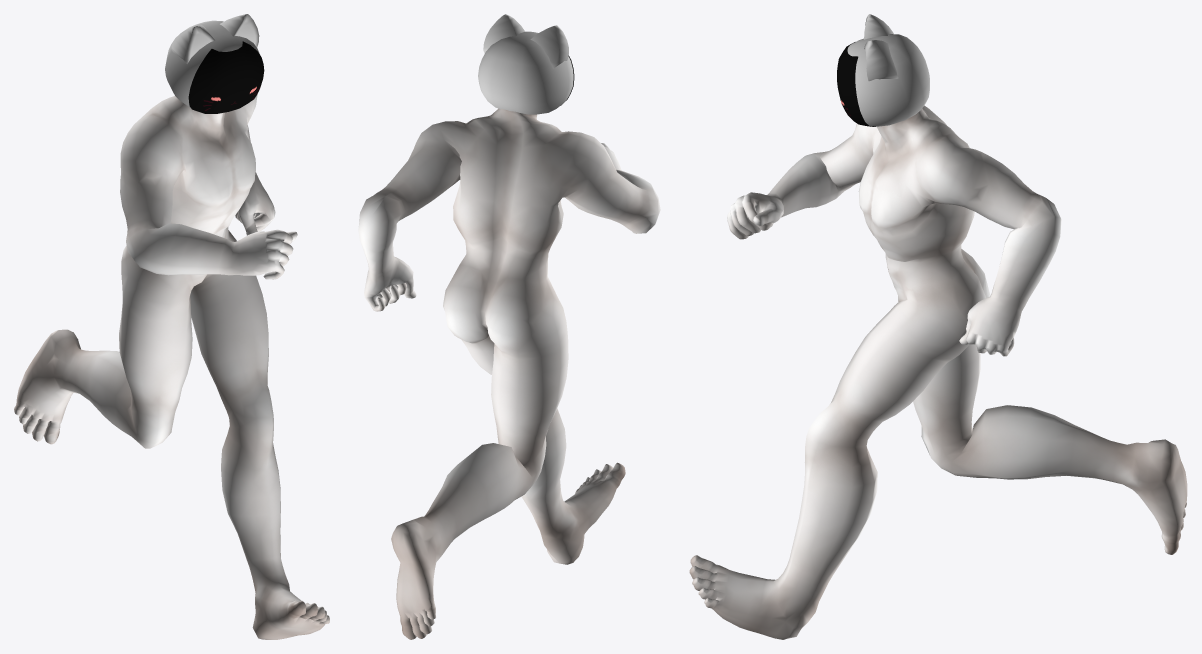
3 views of the same model, side by side, from view 1: azimuth 30°, elevation 25°; view 2: azimuth 150°, elevation 25°; view 3: azimuth 270°, elevation 25° (orthographic). The views are drawn at different scales.
Visible parts, largest first — view 1: Muscle_Body, ______?001, Cat_Head; view 2: Muscle_Body, Cat_Head; view 3: Muscle_Body, Cat_Head, ______?001.
Boxes of the visible parts, box(x1,y1,x2,y2) form: Muscle_Body: box(14, 94, 329, 639); ______?001: box(188, 41, 264, 113); Cat_Head: box(165, 14, 259, 107); Muscle_Body: box(358, 108, 660, 639); Cat_Head: box(478, 14, 573, 114); Muscle_Body: box(689, 105, 1187, 639); Cat_Head: box(847, 14, 929, 126); ______?001: box(837, 42, 875, 126).
Size of the model in its own units: 10.57 by 27.55 by 20.47.
